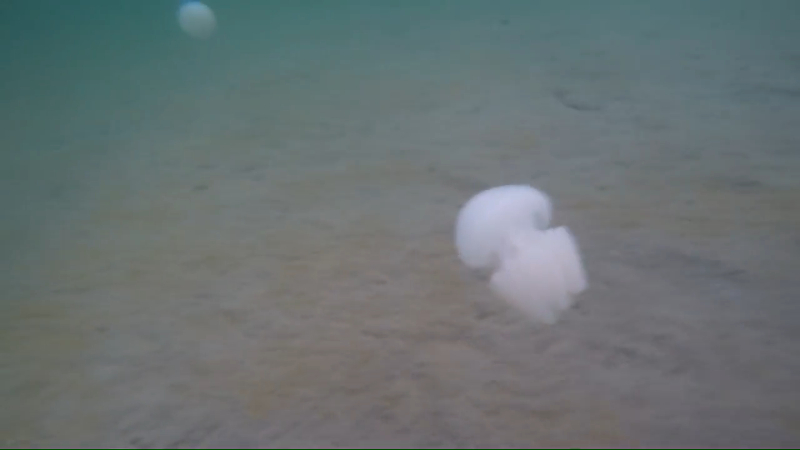white jellyfish: (448, 181, 594, 324)
